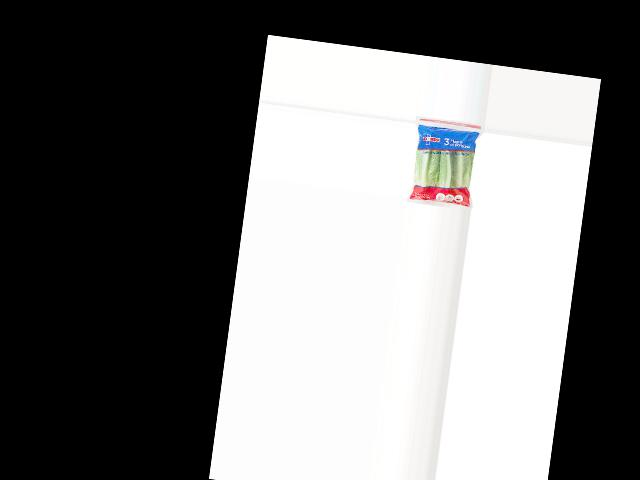lettuce: (407, 122, 481, 210)
